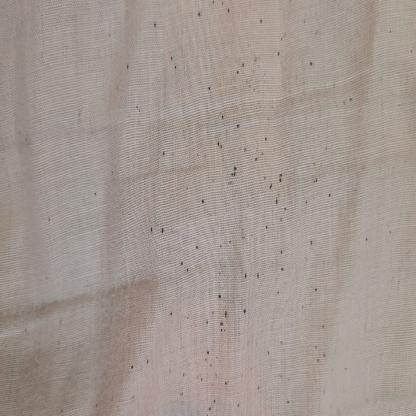spot: (259, 149, 314, 269), (249, 70, 282, 233), (194, 60, 229, 205), (213, 98, 252, 179), (124, 56, 152, 130), (192, 382, 251, 416), (316, 119, 335, 220), (340, 77, 364, 148), (278, 235, 296, 299), (268, 155, 288, 209), (263, 20, 284, 69), (127, 348, 155, 374), (236, 42, 249, 89), (241, 259, 265, 283), (148, 217, 166, 244), (229, 152, 241, 190), (212, 278, 226, 309), (200, 344, 216, 371), (236, 292, 250, 322), (177, 252, 192, 278), (167, 298, 180, 328), (263, 341, 278, 365), (216, 316, 232, 338), (196, 5, 208, 31), (167, 48, 179, 70), (313, 281, 321, 312), (205, 139, 224, 151), (152, 15, 162, 34), (304, 51, 314, 69), (158, 146, 168, 164), (192, 236, 202, 250)
